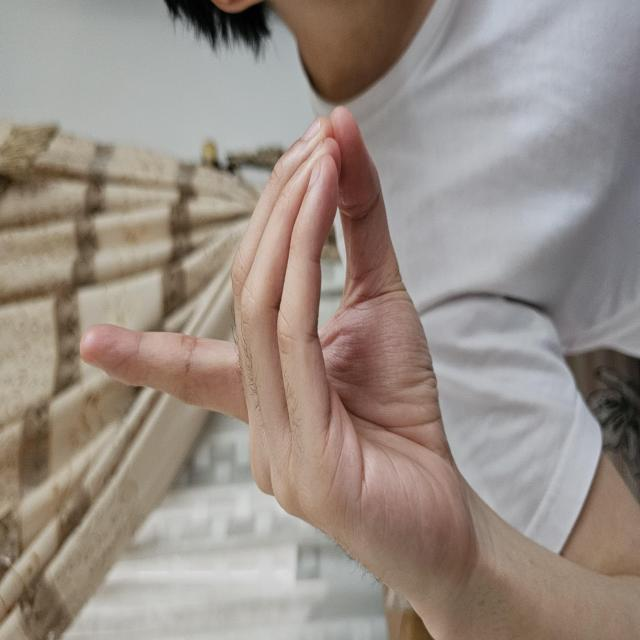D: (42, 79, 538, 475)
